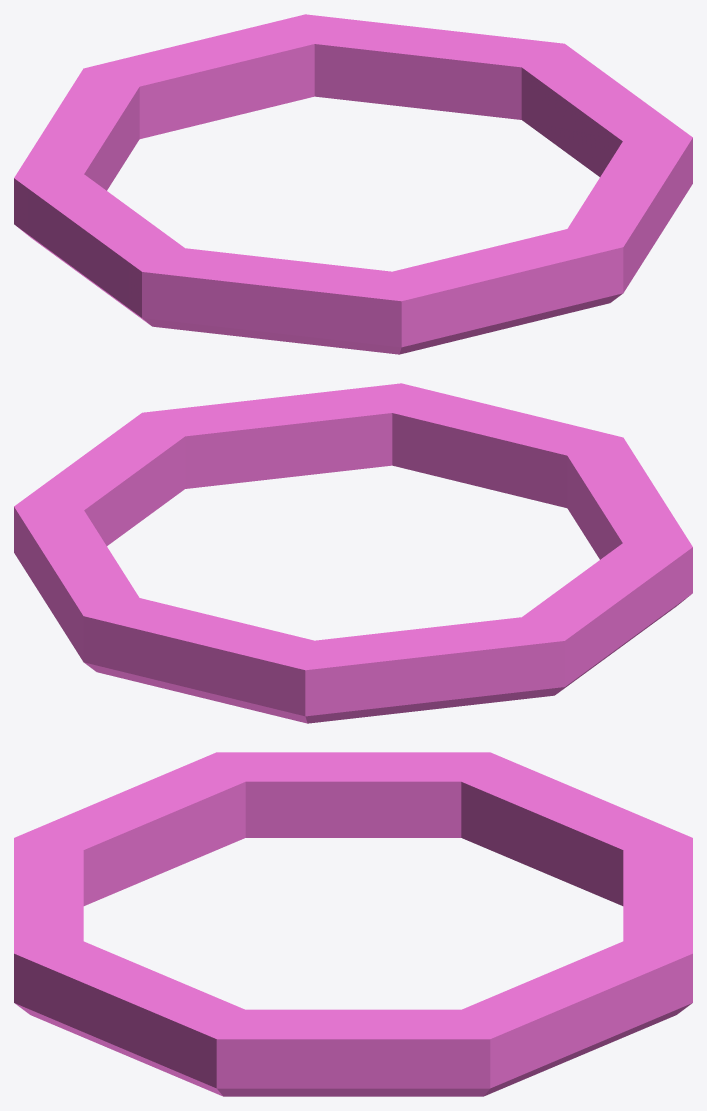
The model's file is SM_Tower_Round_3m_Trim_Stone_Fantasy.fbx.
The picture shows the model from 3 angles, top to bottom: view 1: azimuth 30°, elevation 25°; view 2: azimuth 150°, elevation 25°; view 3: azimuth 270°, elevation 25°; orthographic projection. The views are drawn at different scales.
Parts seen in each view (by area): view 1: SM_Tower_Round_3m_Trim_Stone_Fantasy; view 2: SM_Tower_Round_3m_Trim_Stone_Fantasy; view 3: SM_Tower_Round_3m_Trim_Stone_Fantasy.
Part boxes in pixels (x1,y1,x2,y2): SM_Tower_Round_3m_Trim_Stone_Fantasy: [14, 14, 692, 354]; SM_Tower_Round_3m_Trim_Stone_Fantasy: [14, 383, 692, 723]; SM_Tower_Round_3m_Trim_Stone_Fantasy: [14, 752, 692, 1096].
Size of the model in its own units: 3.15 by 0.3294 by 3.15.
